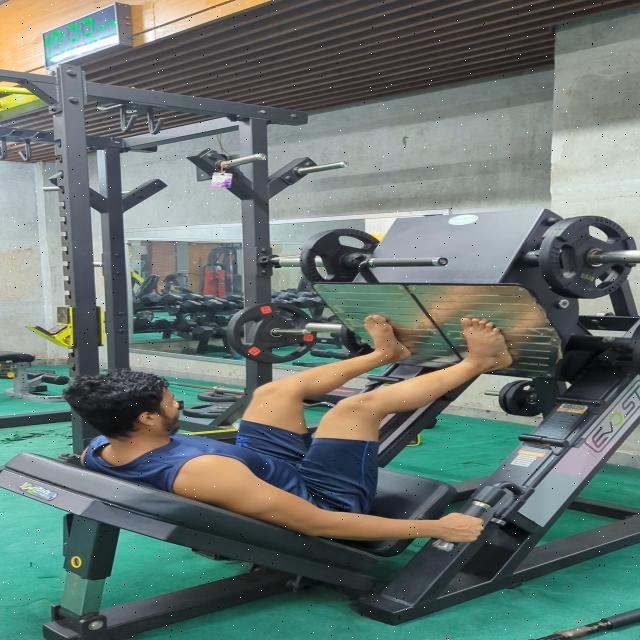Normal_LegPress: (48, 310, 534, 547)
